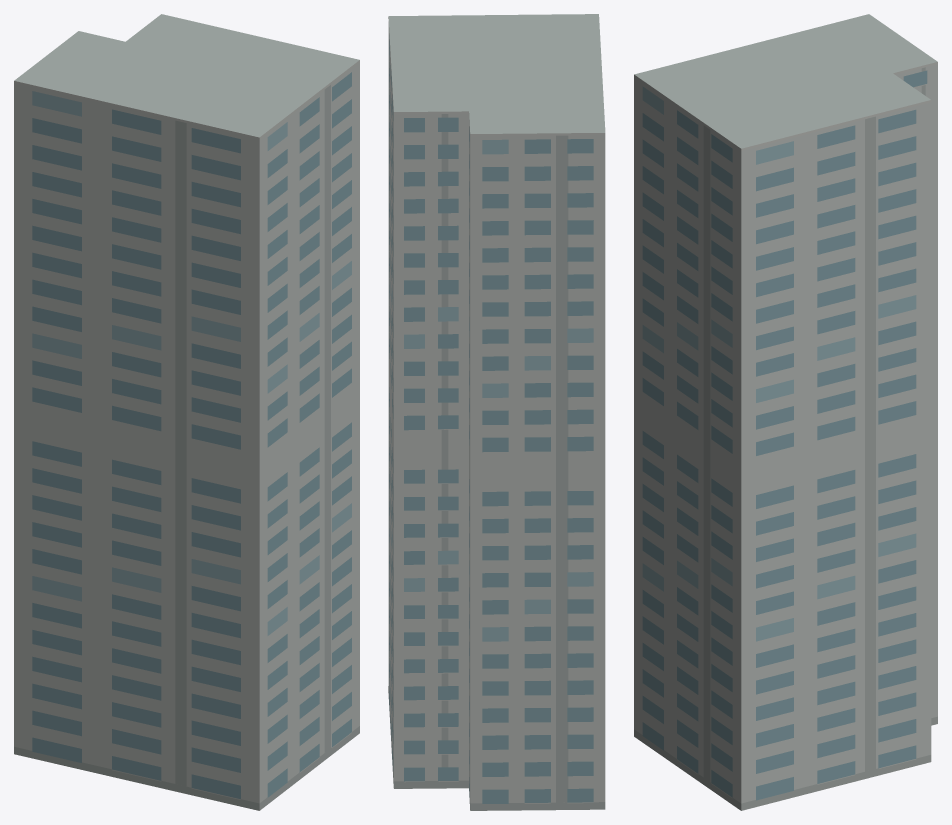
Rendered from residential-d2e847fd-8f0b-4f43-827b-771873835256.glb.
3 renders of one model, left to right at view 1: azimuth 30°, elevation 25°; view 2: azimuth 150°, elevation 25°; view 3: azimuth 270°, elevation 25°, orthographic. The views are drawn at different scales.
Parts seen in each view (by area): view 1: residential-d2e847fd-8f0b-4f43-827b-771873835256.tmp; view 2: residential-d2e847fd-8f0b-4f43-827b-771873835256.tmp; view 3: residential-d2e847fd-8f0b-4f43-827b-771873835256.tmp.
Part boxes in pixels (<box>): residential-d2e847fd-8f0b-4f43-827b-771873835256.tmp: <box>14,14,359,810</box>; residential-d2e847fd-8f0b-4f43-827b-771873835256.tmp: <box>388,14,605,810</box>; residential-d2e847fd-8f0b-4f43-827b-771873835256.tmp: <box>634,14,937,810</box>.
Bounding box in the file's own units: 29.69 × 68 × 28.29.
